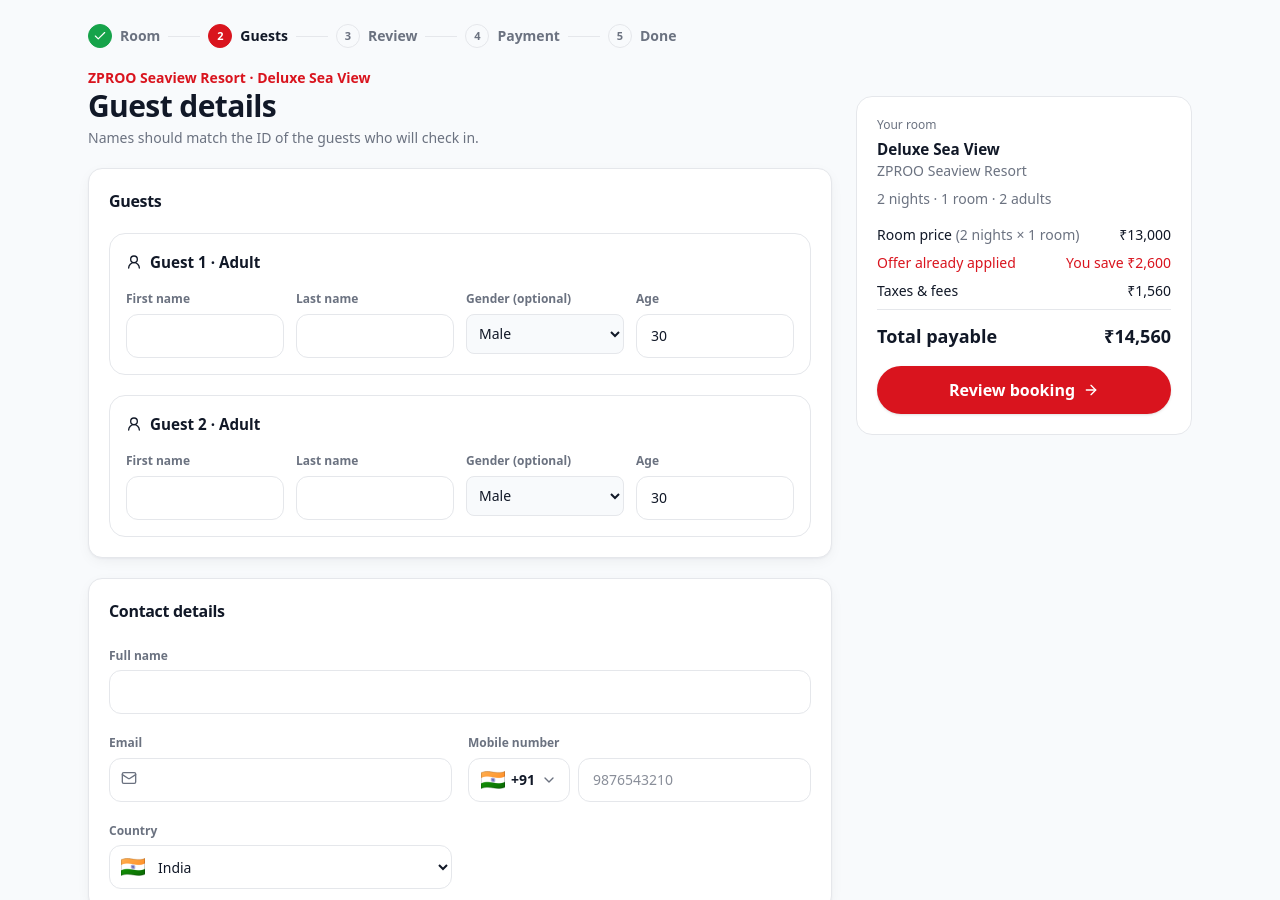
Scenario: guest details › blocks digits in names and letters in the mobile number
The width and height of the screenshot is (1280, 900).
Type "Asha 99 Patil!" into the field labelled "Full name" at (460, 692), box [109, 670, 811, 714]
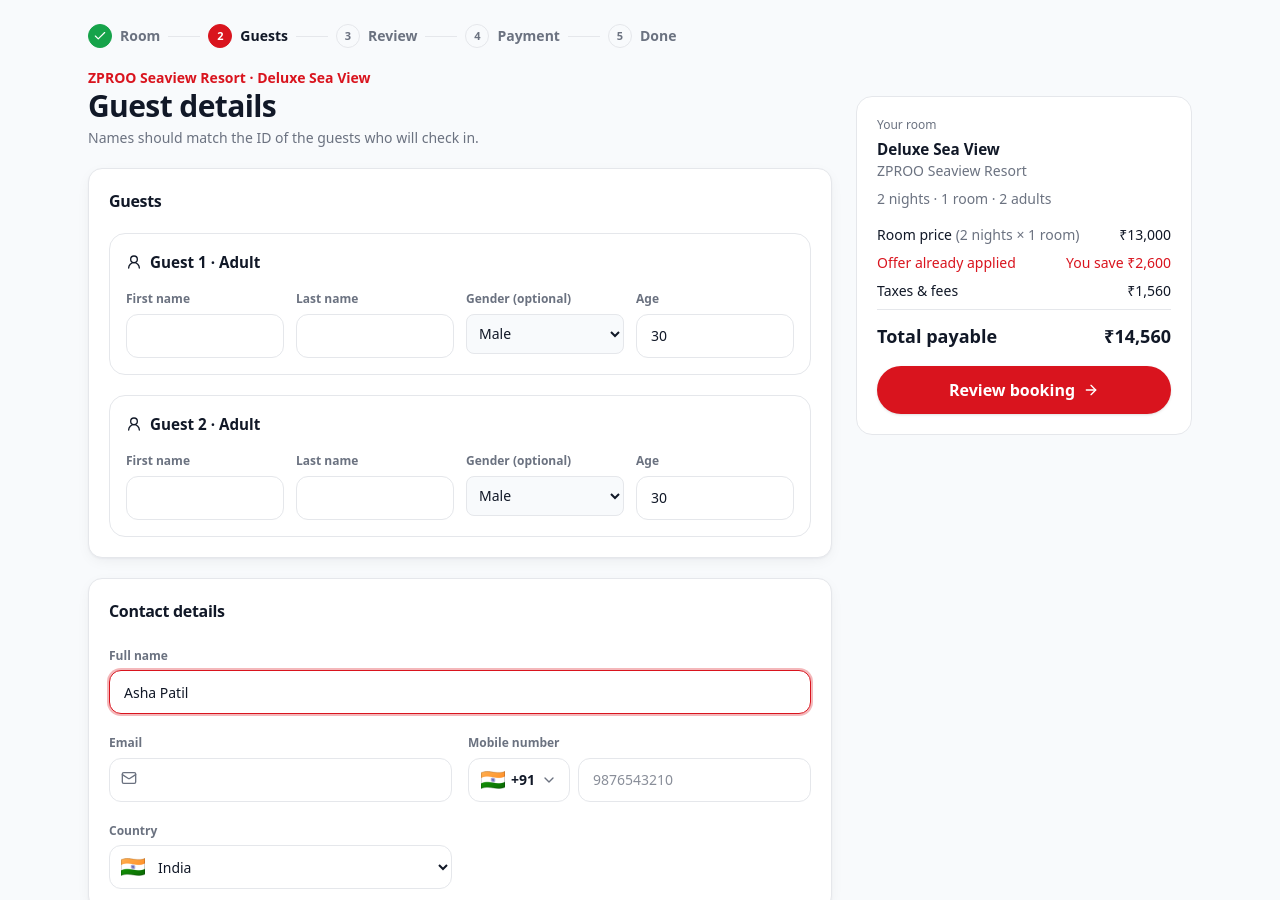
Now the field labelled "Full name" holds "Asha Patil", box [109, 670, 811, 714]
Type "98ab76543210999" into the field labelled "Mobile number" at (694, 780), box [578, 758, 811, 802]
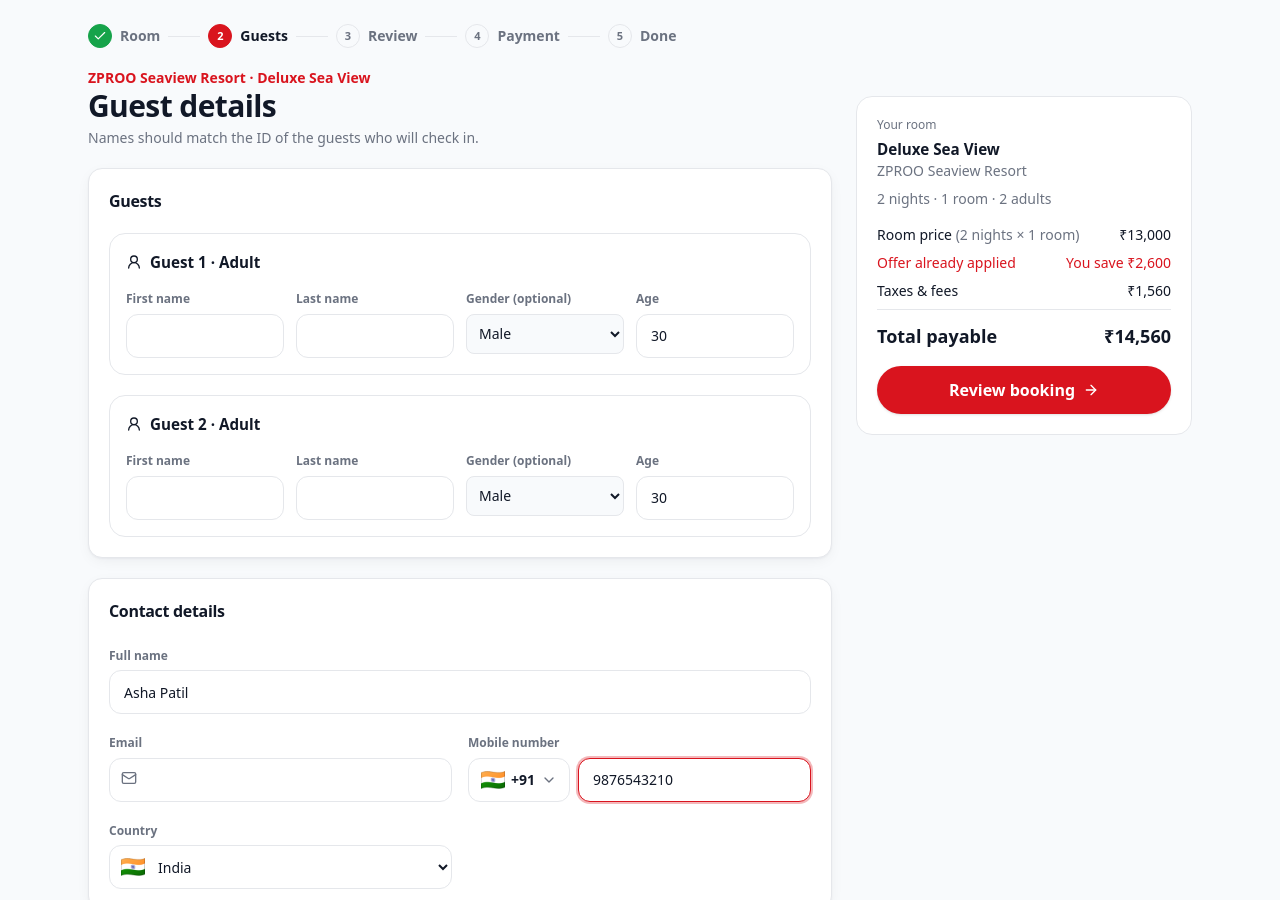
Now the field labelled "Mobile number" holds "9876543210", box [578, 758, 811, 802]
Type "R2D2" into the 1st field labelled "First name" at (205, 336), box [126, 314, 284, 358]
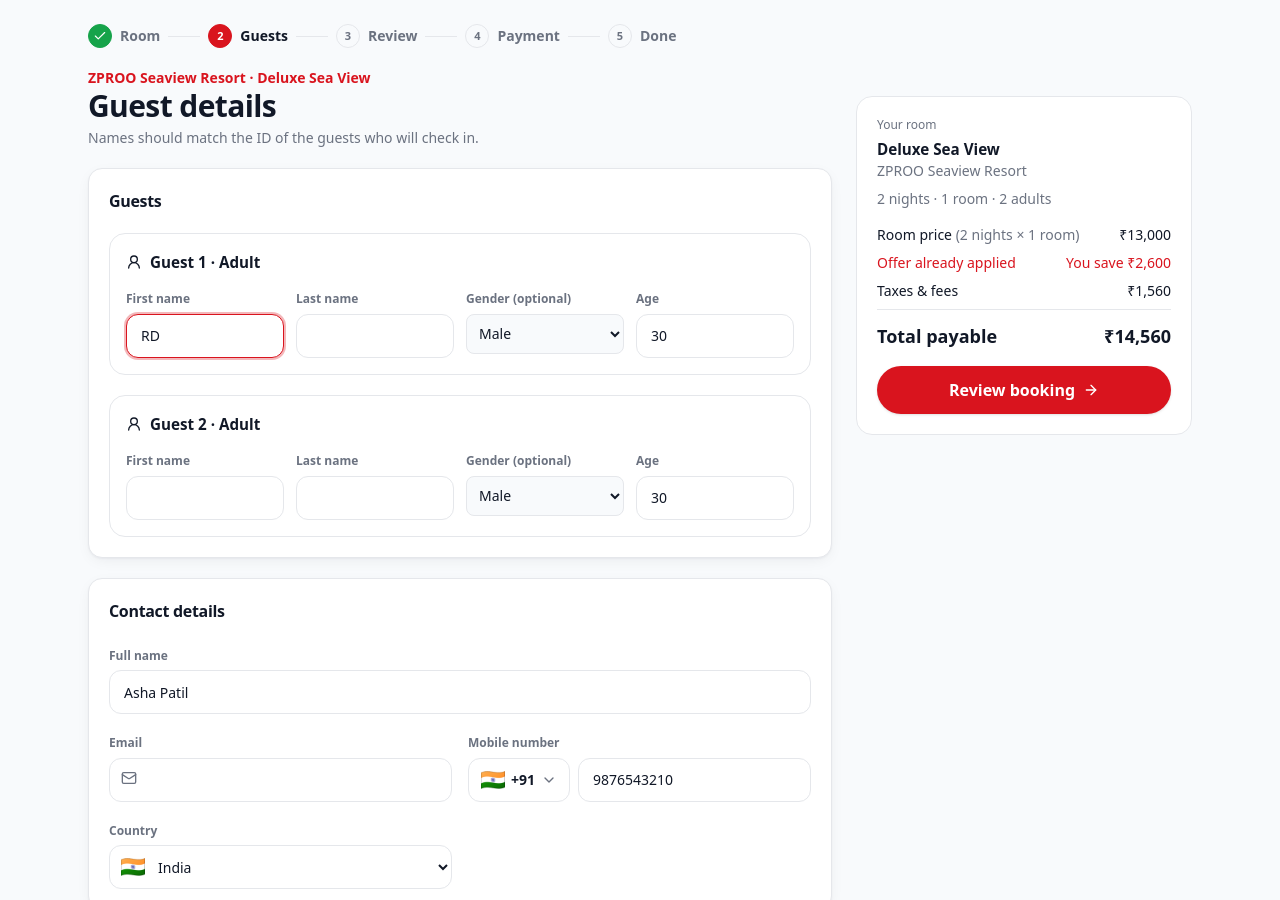
Now the 1st field labelled "First name" holds "RD", box [126, 314, 284, 358]
